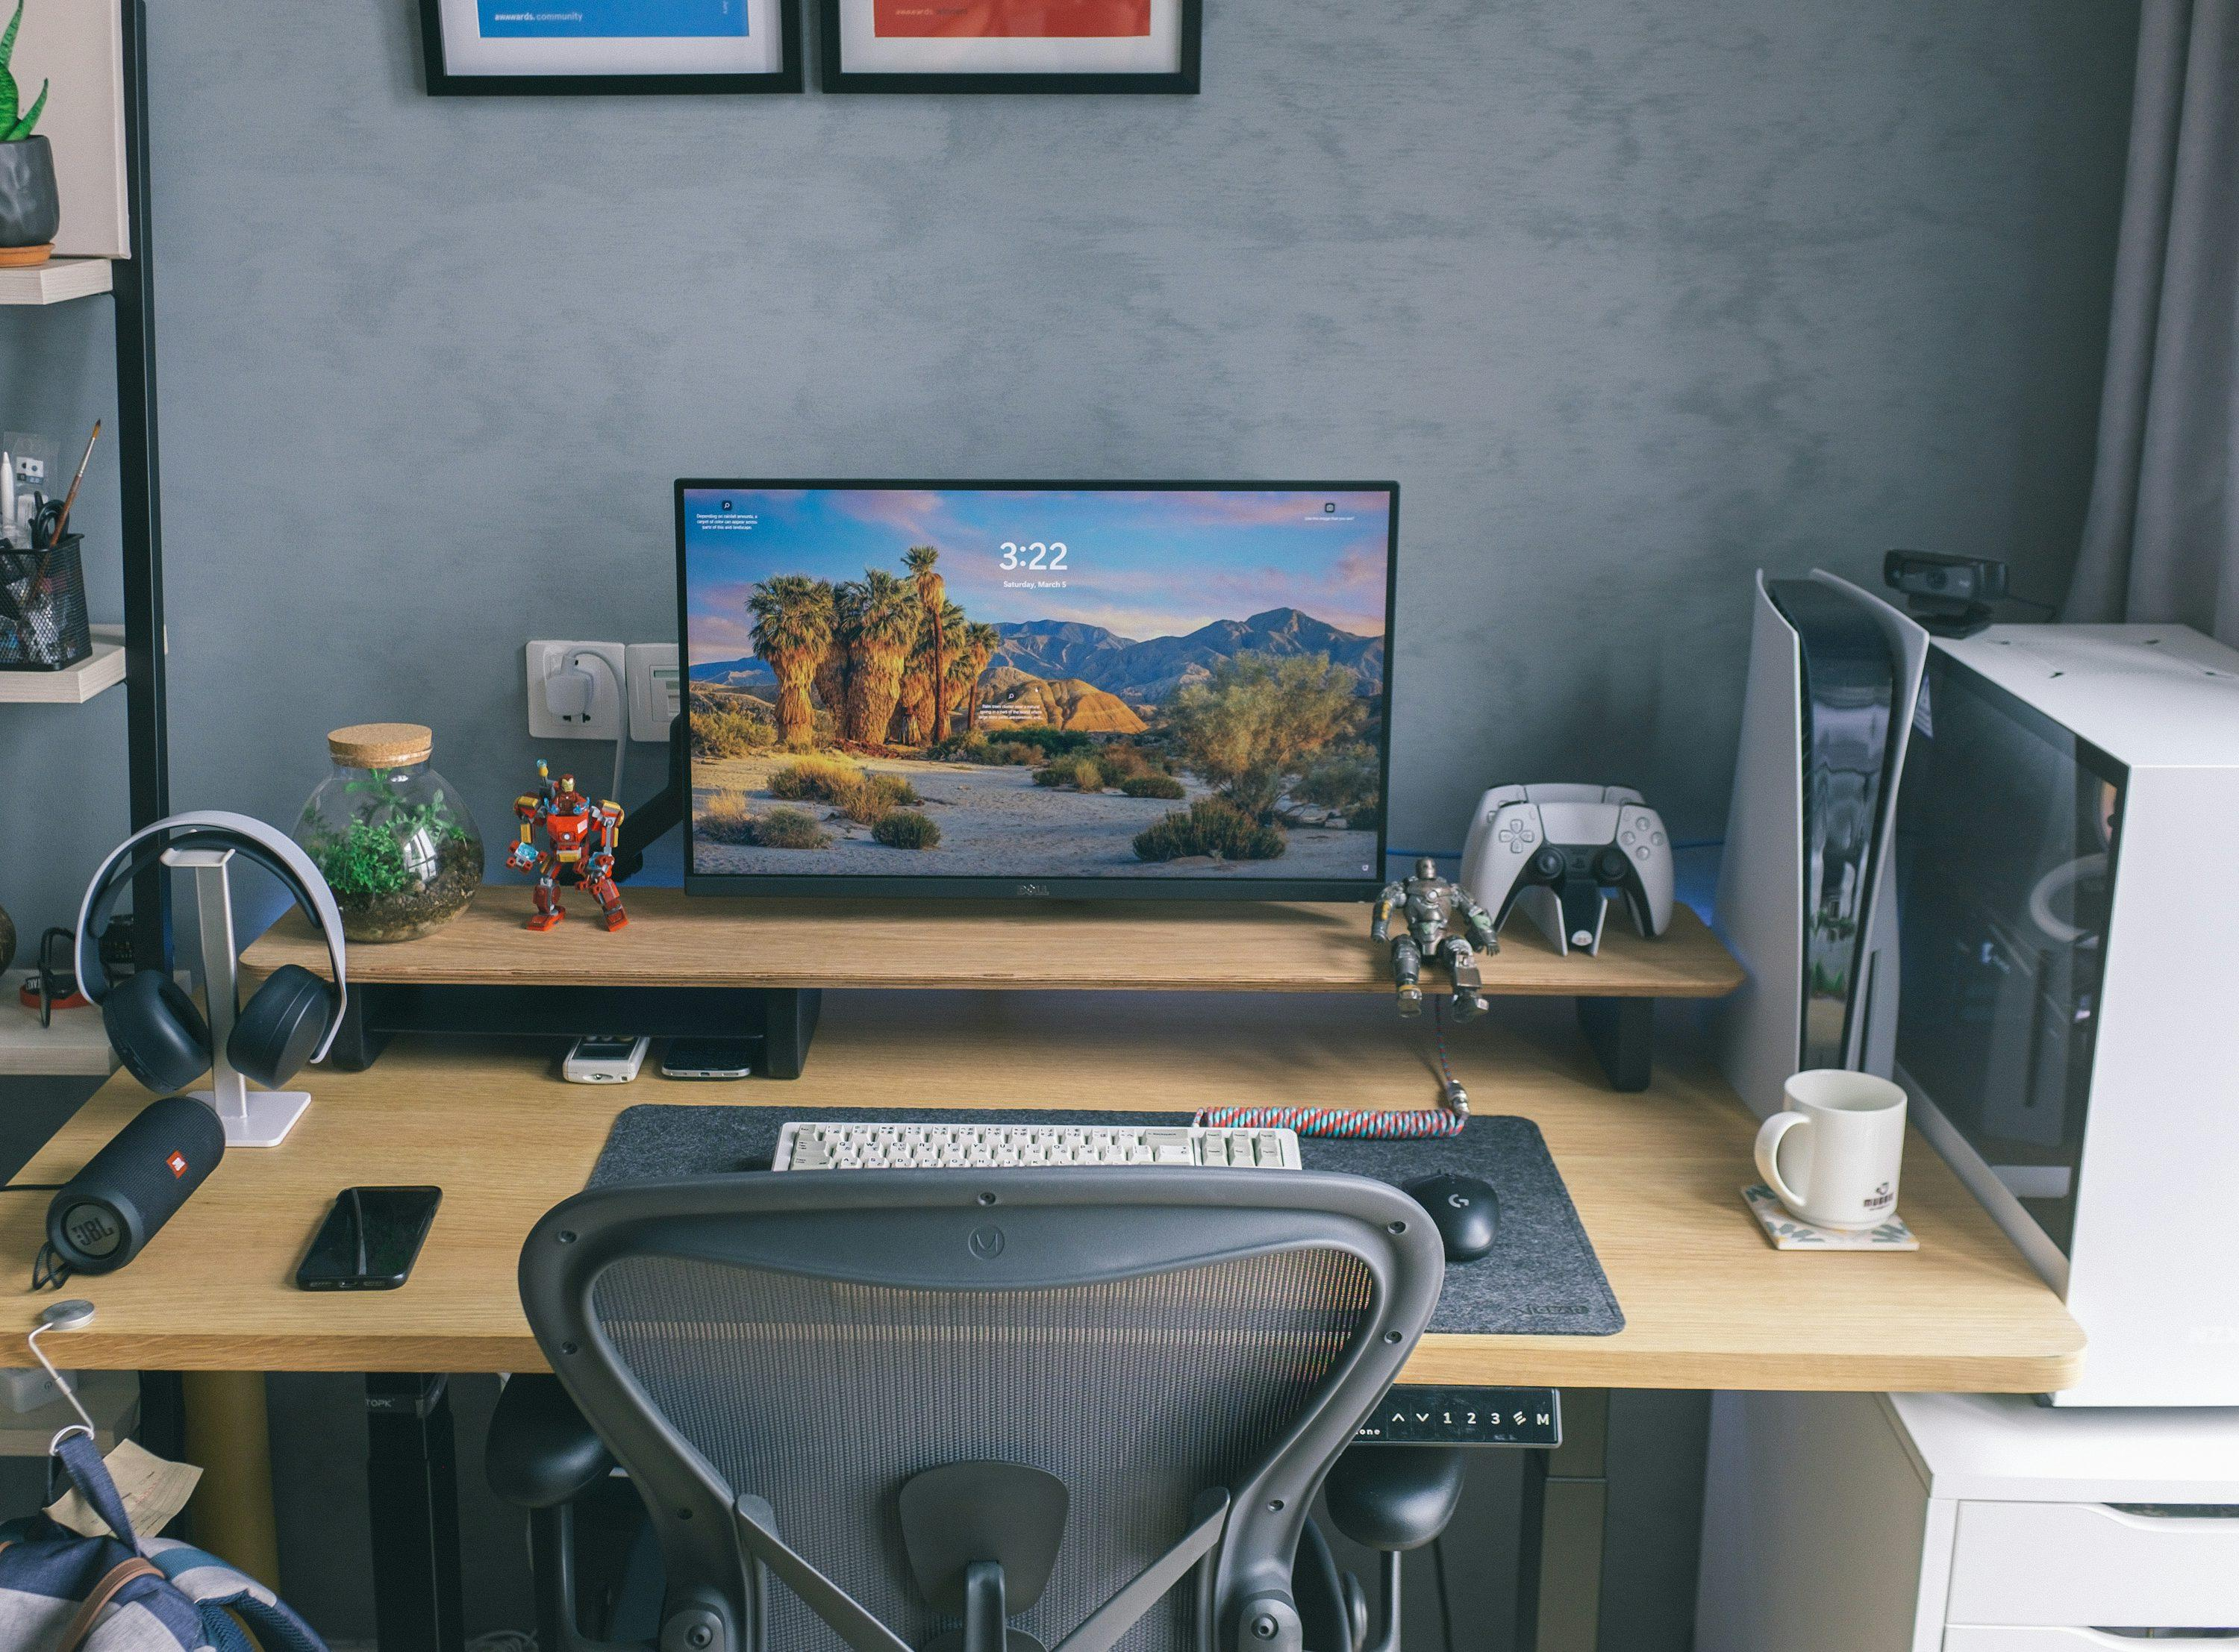Phone: (287, 1169, 435, 1308)
TV: (662, 453, 1406, 912)
Table: (0, 943, 2079, 1404)
backpack: (0, 1404, 342, 1652)
chair: (469, 1180, 1458, 1652)
controller: (1455, 803, 1704, 959)
cup: (1752, 1058, 1945, 1251)
flowerPot: (0, 0, 90, 262)
headphones: (57, 796, 362, 1089)
mouse: (1427, 1148, 1516, 1268)
speaker: (23, 1105, 219, 1268)
webcam: (1876, 523, 2022, 648)
